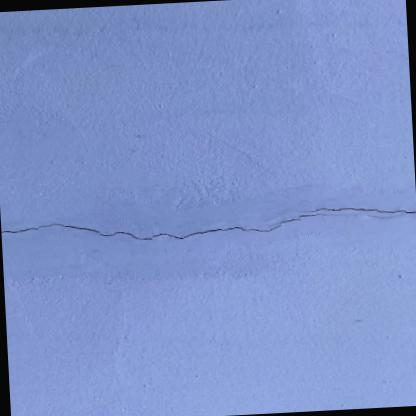crack: (1, 211, 350, 241), (329, 205, 416, 213)
